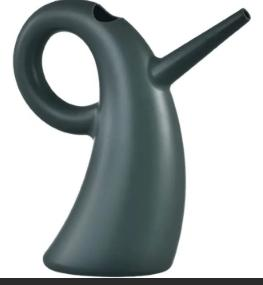ARROSOIR: (0, 0, 255, 283)
